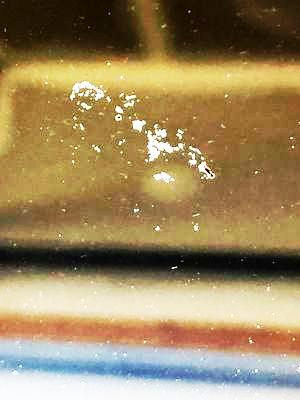Bird Poop: (132, 120, 214, 178), (70, 81, 111, 111), (115, 93, 137, 121), (154, 172, 172, 180)
